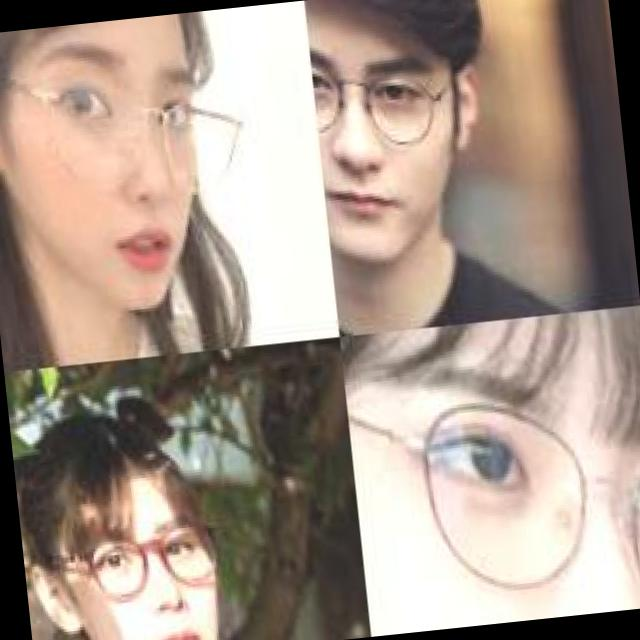glasses: (343, 344, 640, 633), (0, 41, 256, 222), (32, 474, 224, 620), (307, 15, 469, 161)
